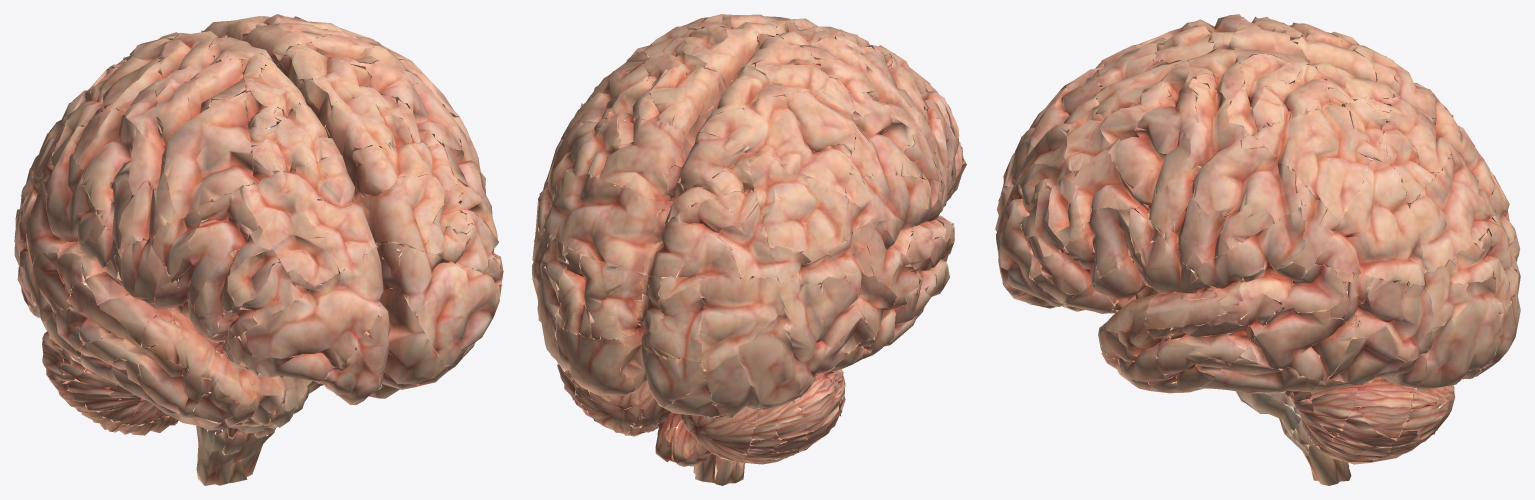
File: astronaut-brain.glb
3 renders of one model, left to right at view 1: azimuth 30°, elevation 25°; view 2: azimuth 150°, elevation 25°; view 3: azimuth 270°, elevation 25°, orthographic. The views are drawn at different scales.
Parts seen in each view (by area): view 1: human-brain; view 2: human-brain; view 3: human-brain.
Part boxes in pixels (x1=…): human-brain: x1=14, y1=14, x2=503, y2=485; human-brain: x1=532, y1=14, x2=966, y2=485; human-brain: x1=995, y1=14, x2=1520, y2=485.
Size of the model in its own units: 0.138 by 0.1557 by 0.1702.
1 material, 1 textured.
